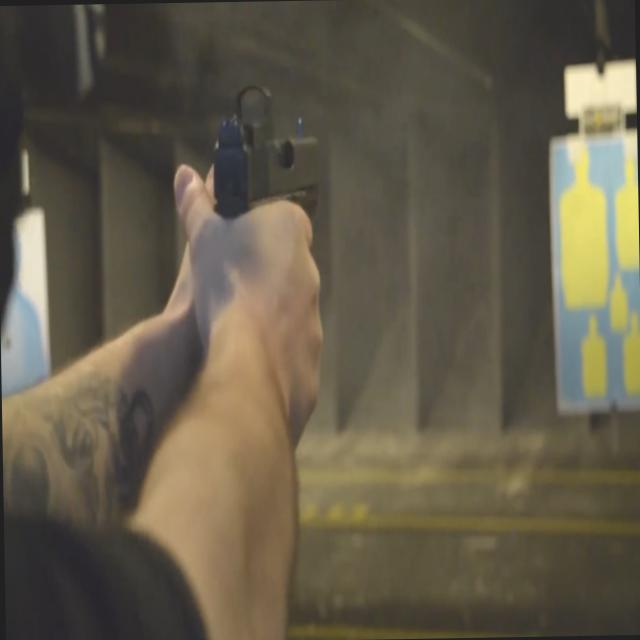handgun: (206, 51, 322, 363)
